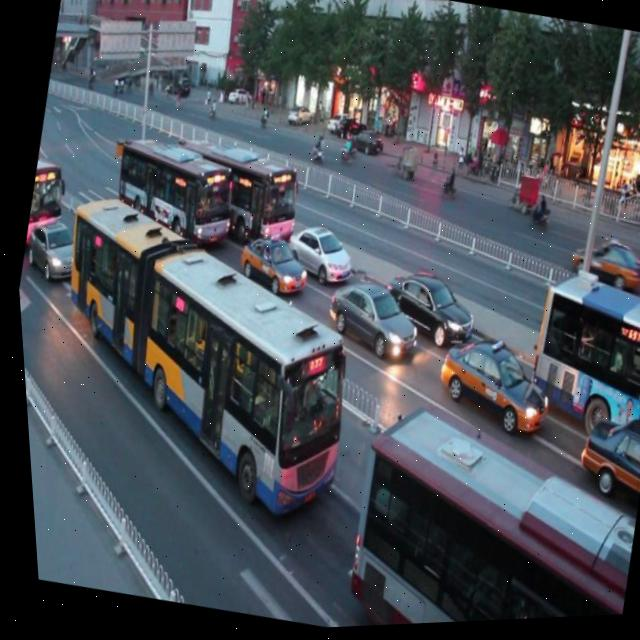car: (419, 331, 554, 455), (310, 271, 418, 374), (372, 265, 478, 360), (560, 405, 640, 503), (225, 225, 309, 307), (273, 215, 354, 296), (16, 215, 86, 286)
van: (13, 175, 381, 537), (323, 397, 640, 629), (511, 269, 640, 443), (97, 123, 243, 264), (162, 126, 307, 260), (18, 136, 71, 243)
